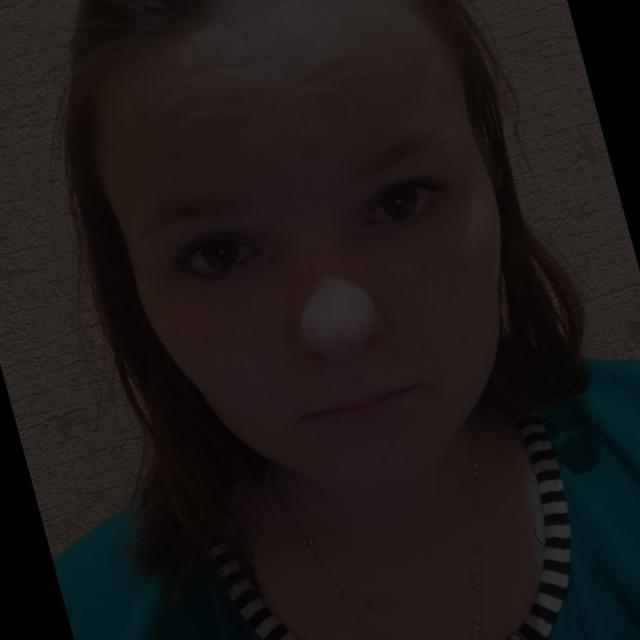Natural: (72, 45, 521, 470)
